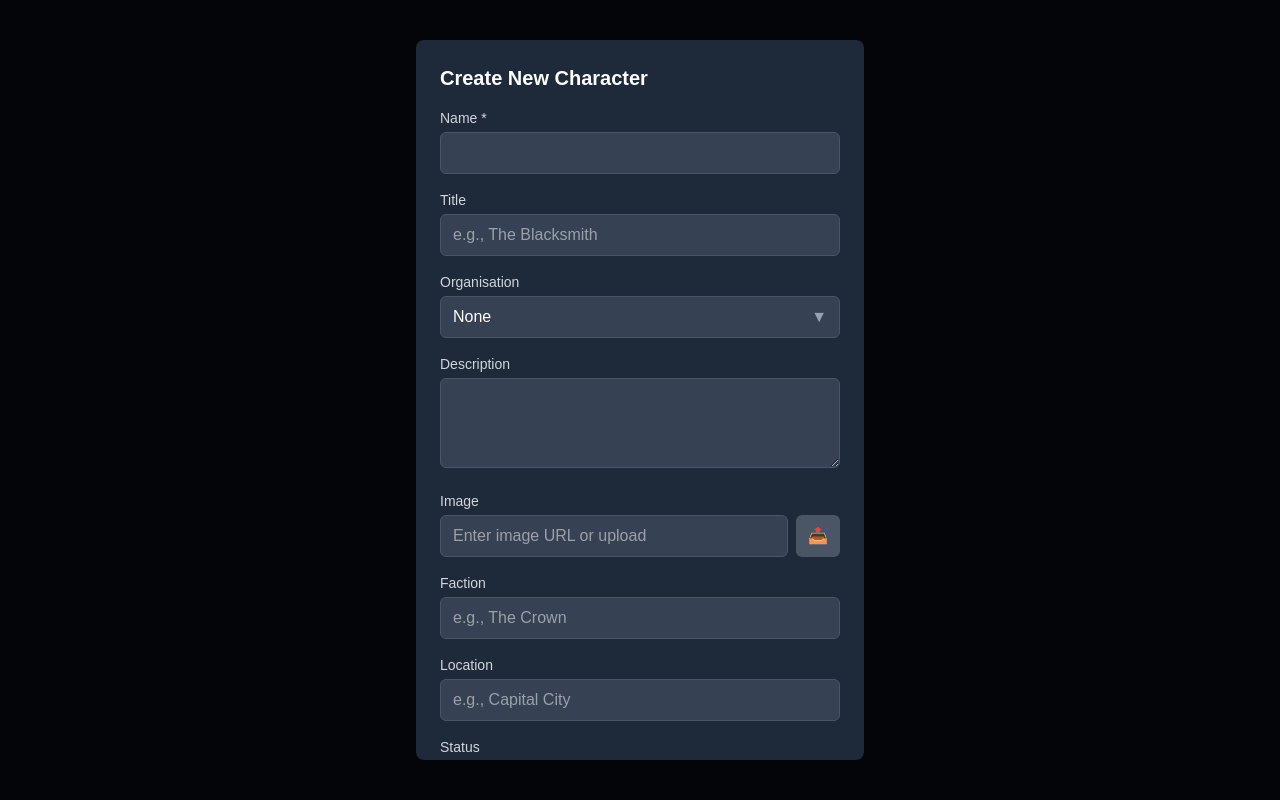
Test case: CharacterForm Component › Unified Character Creation Layout › should filter organisations when searching
Note: Open the dropdown
Click the button named "organisation": [472, 316] box [440,296,840,338]
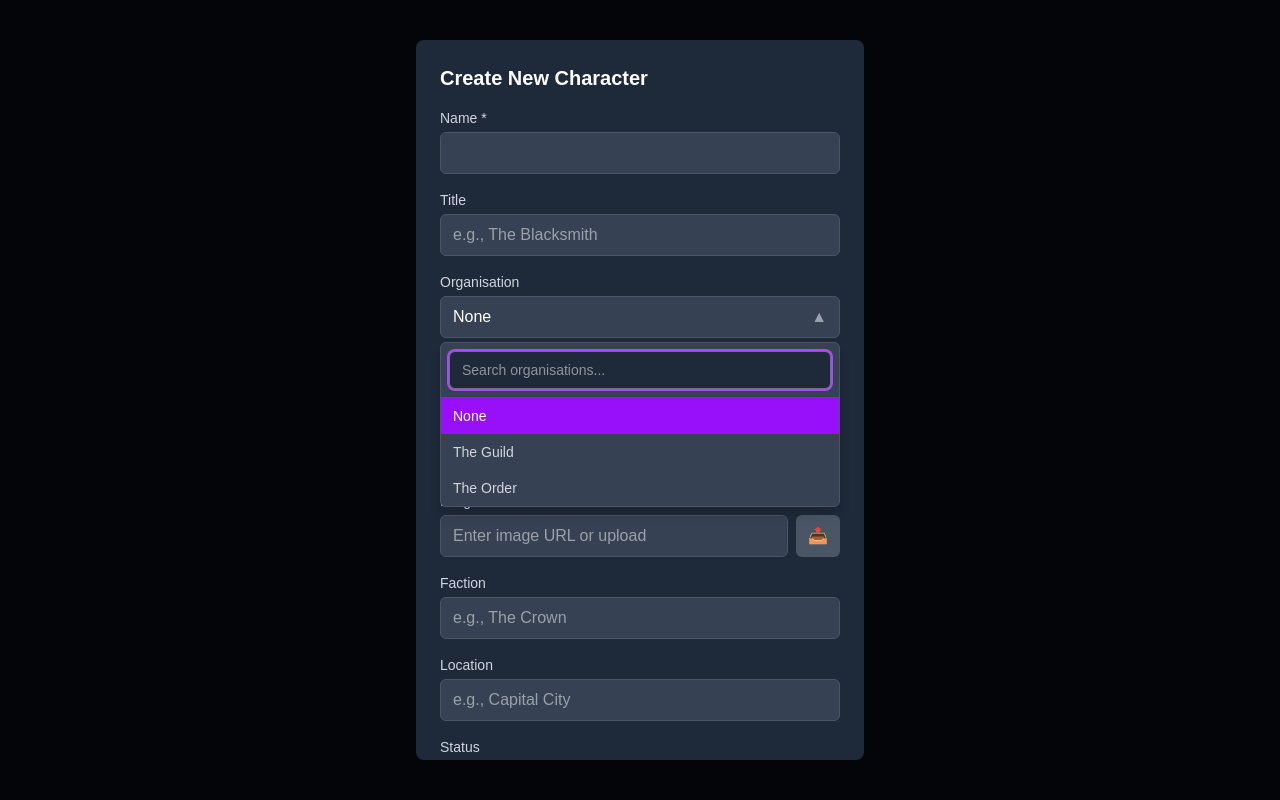
Note: Type in search
In the field with placeholder "Search organisations...": [640, 370] box [449,351,831,389], type "Guild"
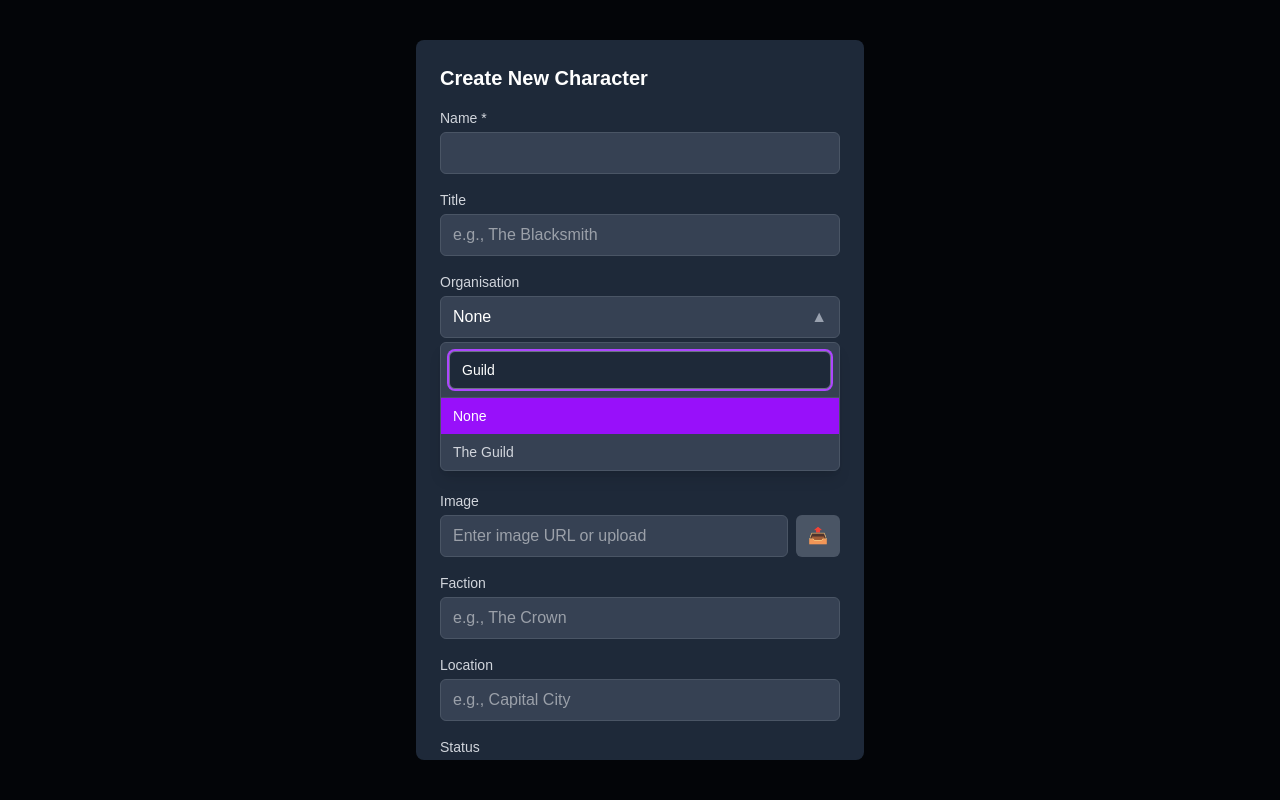
Result: the button "The Guild" is shown at [441,434,839,470]
Result: the button "The Order" is gone
